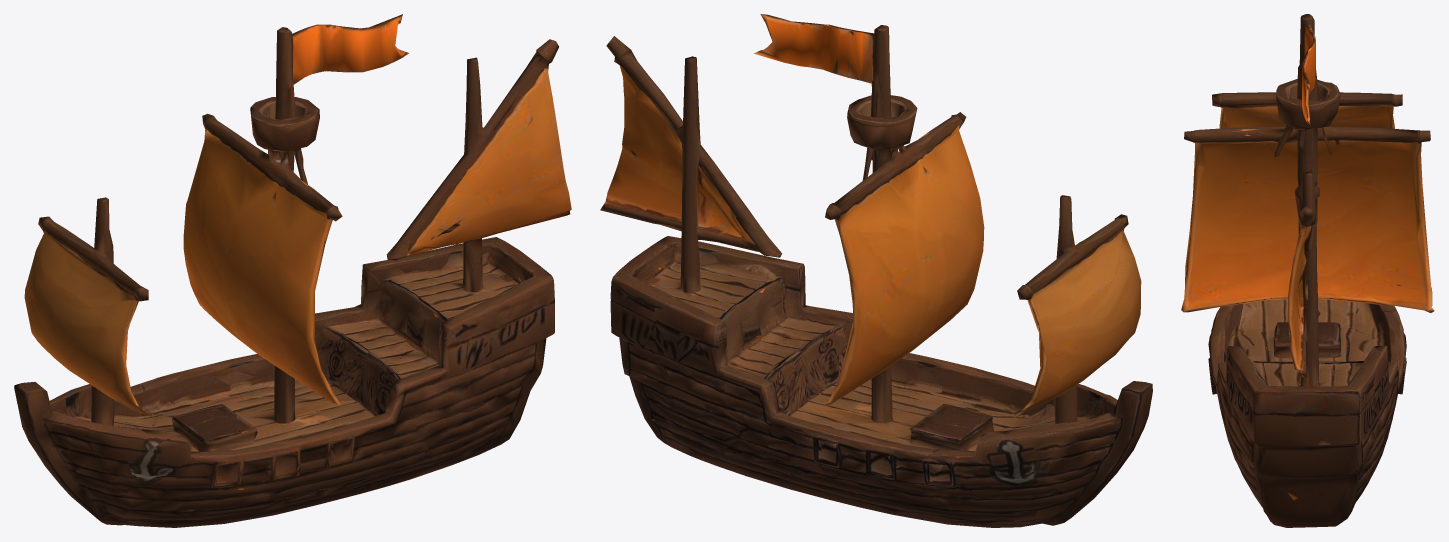
File: m_fortune_animated.glb
3 views of the same model, side by side, from view 1: azimuth 30°, elevation 25°; view 2: azimuth 150°, elevation 25°; view 3: azimuth 270°, elevation 25° (orthographic). The views are drawn at different scales.
Visible parts, largest first — view 1: m_fortune_Living_Scenery; view 2: m_fortune_Living_Scenery; view 3: m_fortune_Living_Scenery.
Boxes of the visible parts, x1,y1,x2,y2 form: m_fortune_Living_Scenery: (14, 14, 571, 527); m_fortune_Living_Scenery: (600, 14, 1152, 527); m_fortune_Living_Scenery: (1181, 14, 1434, 527).
Size of the model in its own units: 0.9997 by 0.7948 by 0.4329.
Materials: 1 (1 with a texture image).
